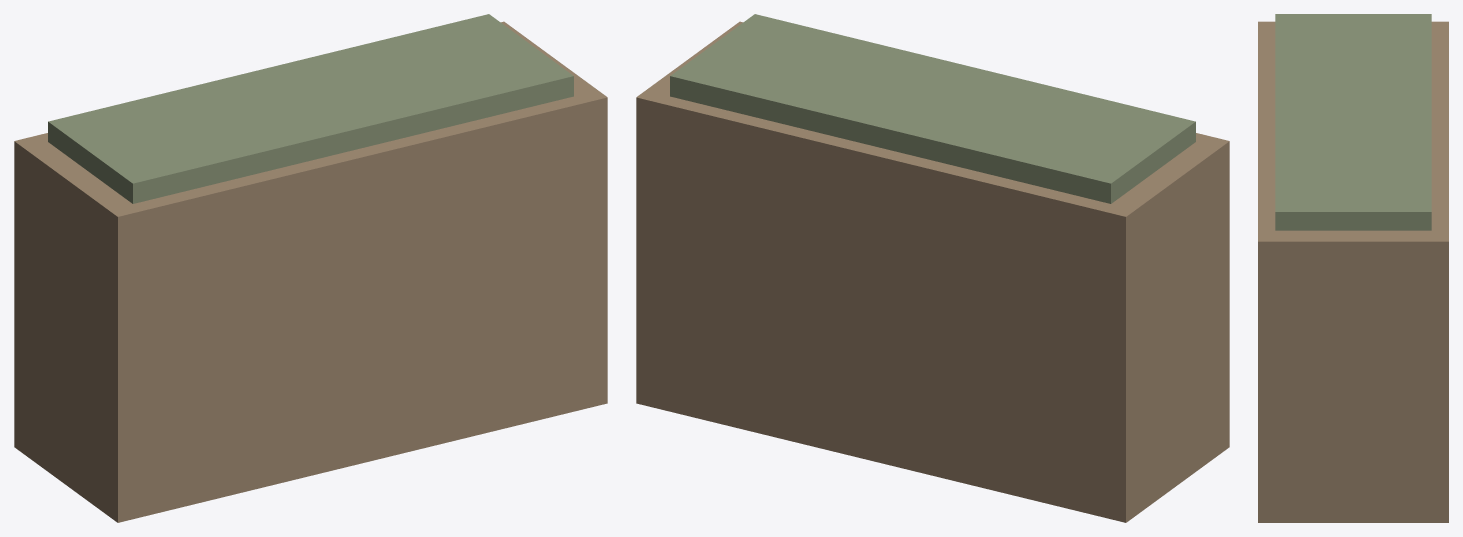
File: iz2_district_fishing_rod_rack.glb
3 views of the same model, side by side, from view 1: azimuth 30°, elevation 25°; view 2: azimuth 150°, elevation 25°; view 3: azimuth 270°, elevation 25° (orthographic). The views are drawn at different scales.
Visible parts, largest first — view 1: body; view 2: body; view 3: body.
Part boxes in pixels (bbox=[...]): body: bbox=[14, 14, 607, 522]; body: bbox=[636, 14, 1229, 522]; body: bbox=[1258, 14, 1448, 522].
Bounding box in the file's own units: 1.52 × 0.9672 × 0.5569.
